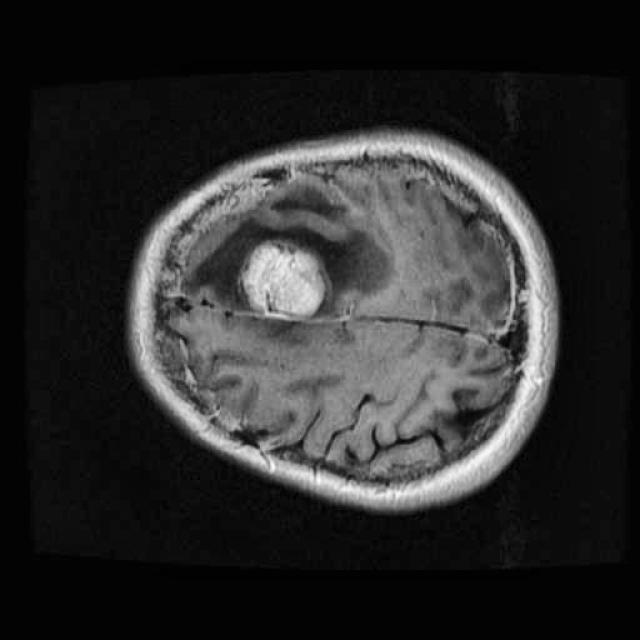Tumor: (235, 230, 340, 332)
